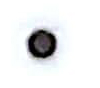cancer: (4, 7, 78, 76)
